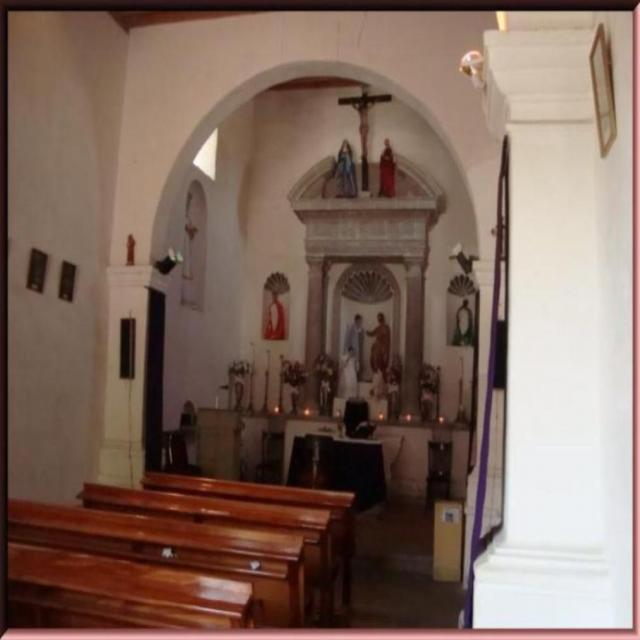desk: (12, 461, 372, 634)
person: (368, 308, 393, 378), (344, 310, 369, 379)
